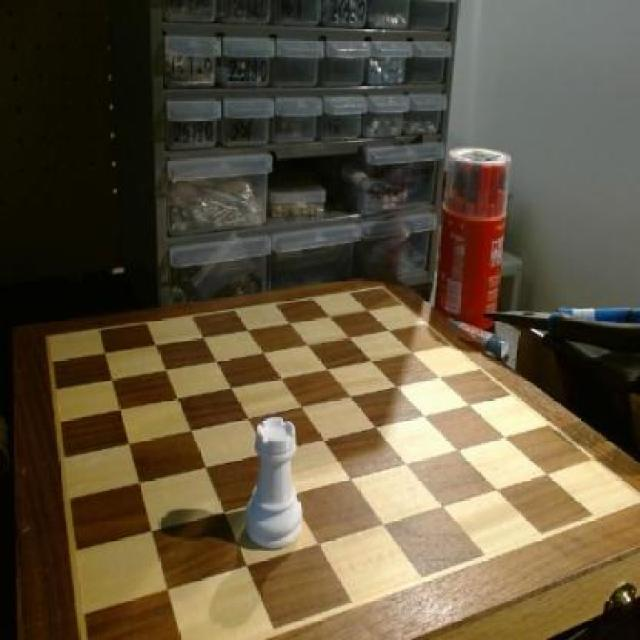white-queen: (237, 412, 306, 560)
